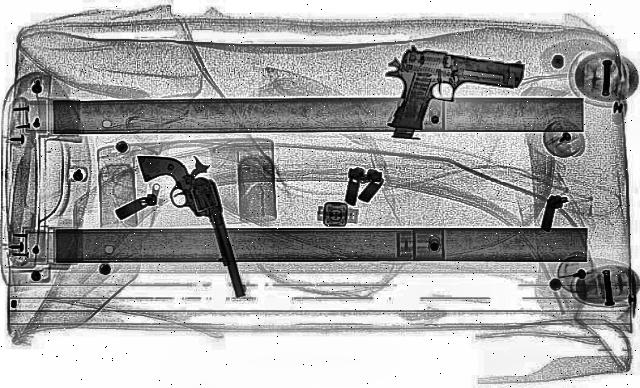Gun: (139, 149, 247, 302), (364, 45, 532, 139)
